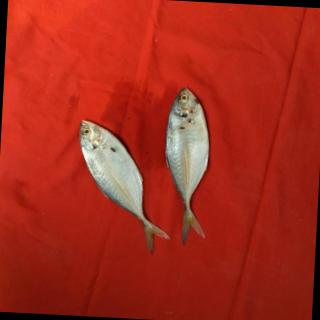Ikan: (69, 80, 222, 255)
